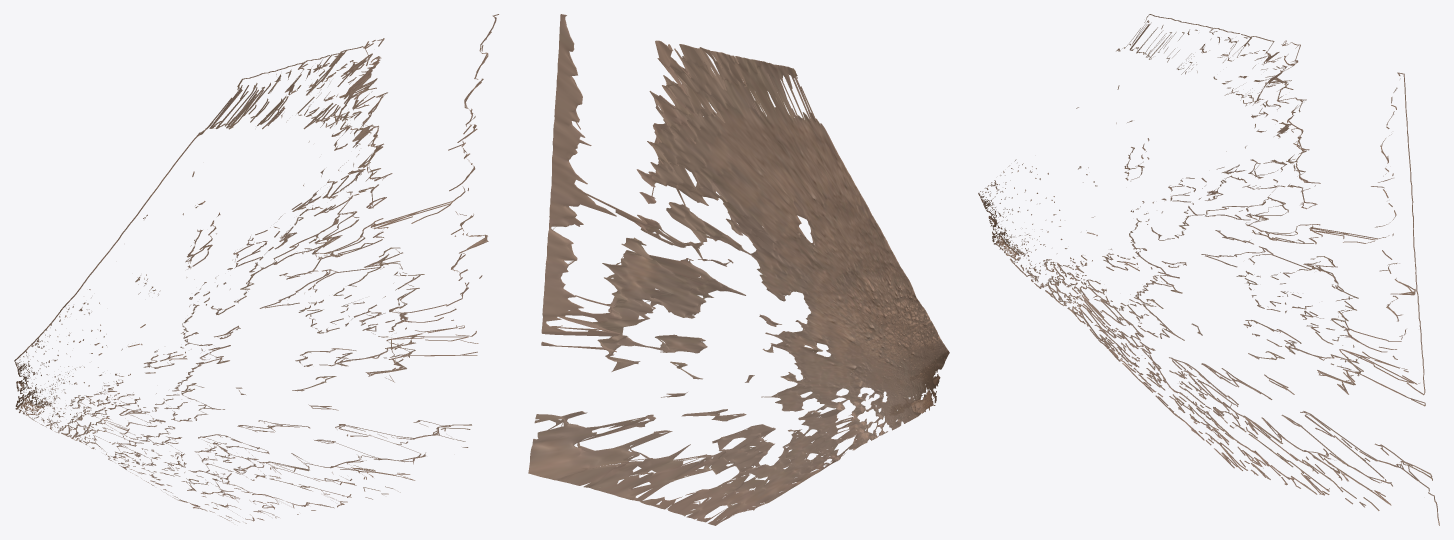
3 renders of one model, left to right at view 1: azimuth 30°, elevation 25°; view 2: azimuth 150°, elevation 25°; view 3: azimuth 330°, elevation 25°, orthographic. The views are drawn at different scales.
Bounding box in the file's own units: 27.37 × 27.83 × 4.94.
1 material, 1 textured.
